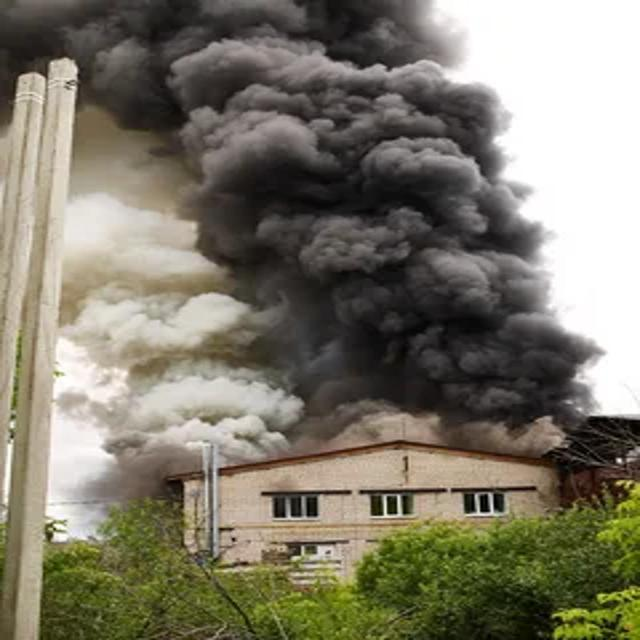Smoke: (74, 0, 640, 450)
